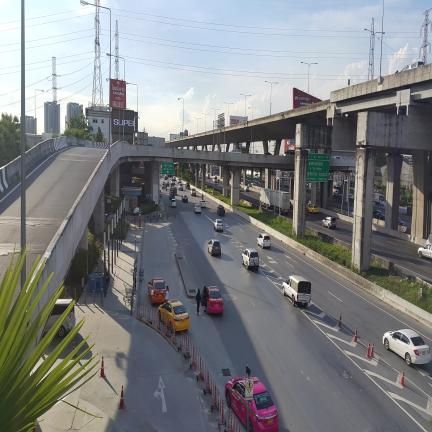car: (383, 329, 431, 366), (242, 248, 259, 269), (208, 239, 221, 256), (257, 233, 271, 248), (322, 217, 336, 229), (214, 219, 223, 231)
human: (195, 289, 201, 316), (202, 286, 208, 311), (165, 285, 169, 301)
pickup: (283, 275, 311, 306), (217, 205, 225, 216)
taxi: (225, 377, 279, 432), (158, 299, 190, 332), (148, 278, 166, 305), (206, 286, 223, 314), (308, 204, 319, 213)
truck: (373, 193, 385, 206)
truck trailer: (260, 188, 291, 213)
van: (213, 175, 218, 183)
